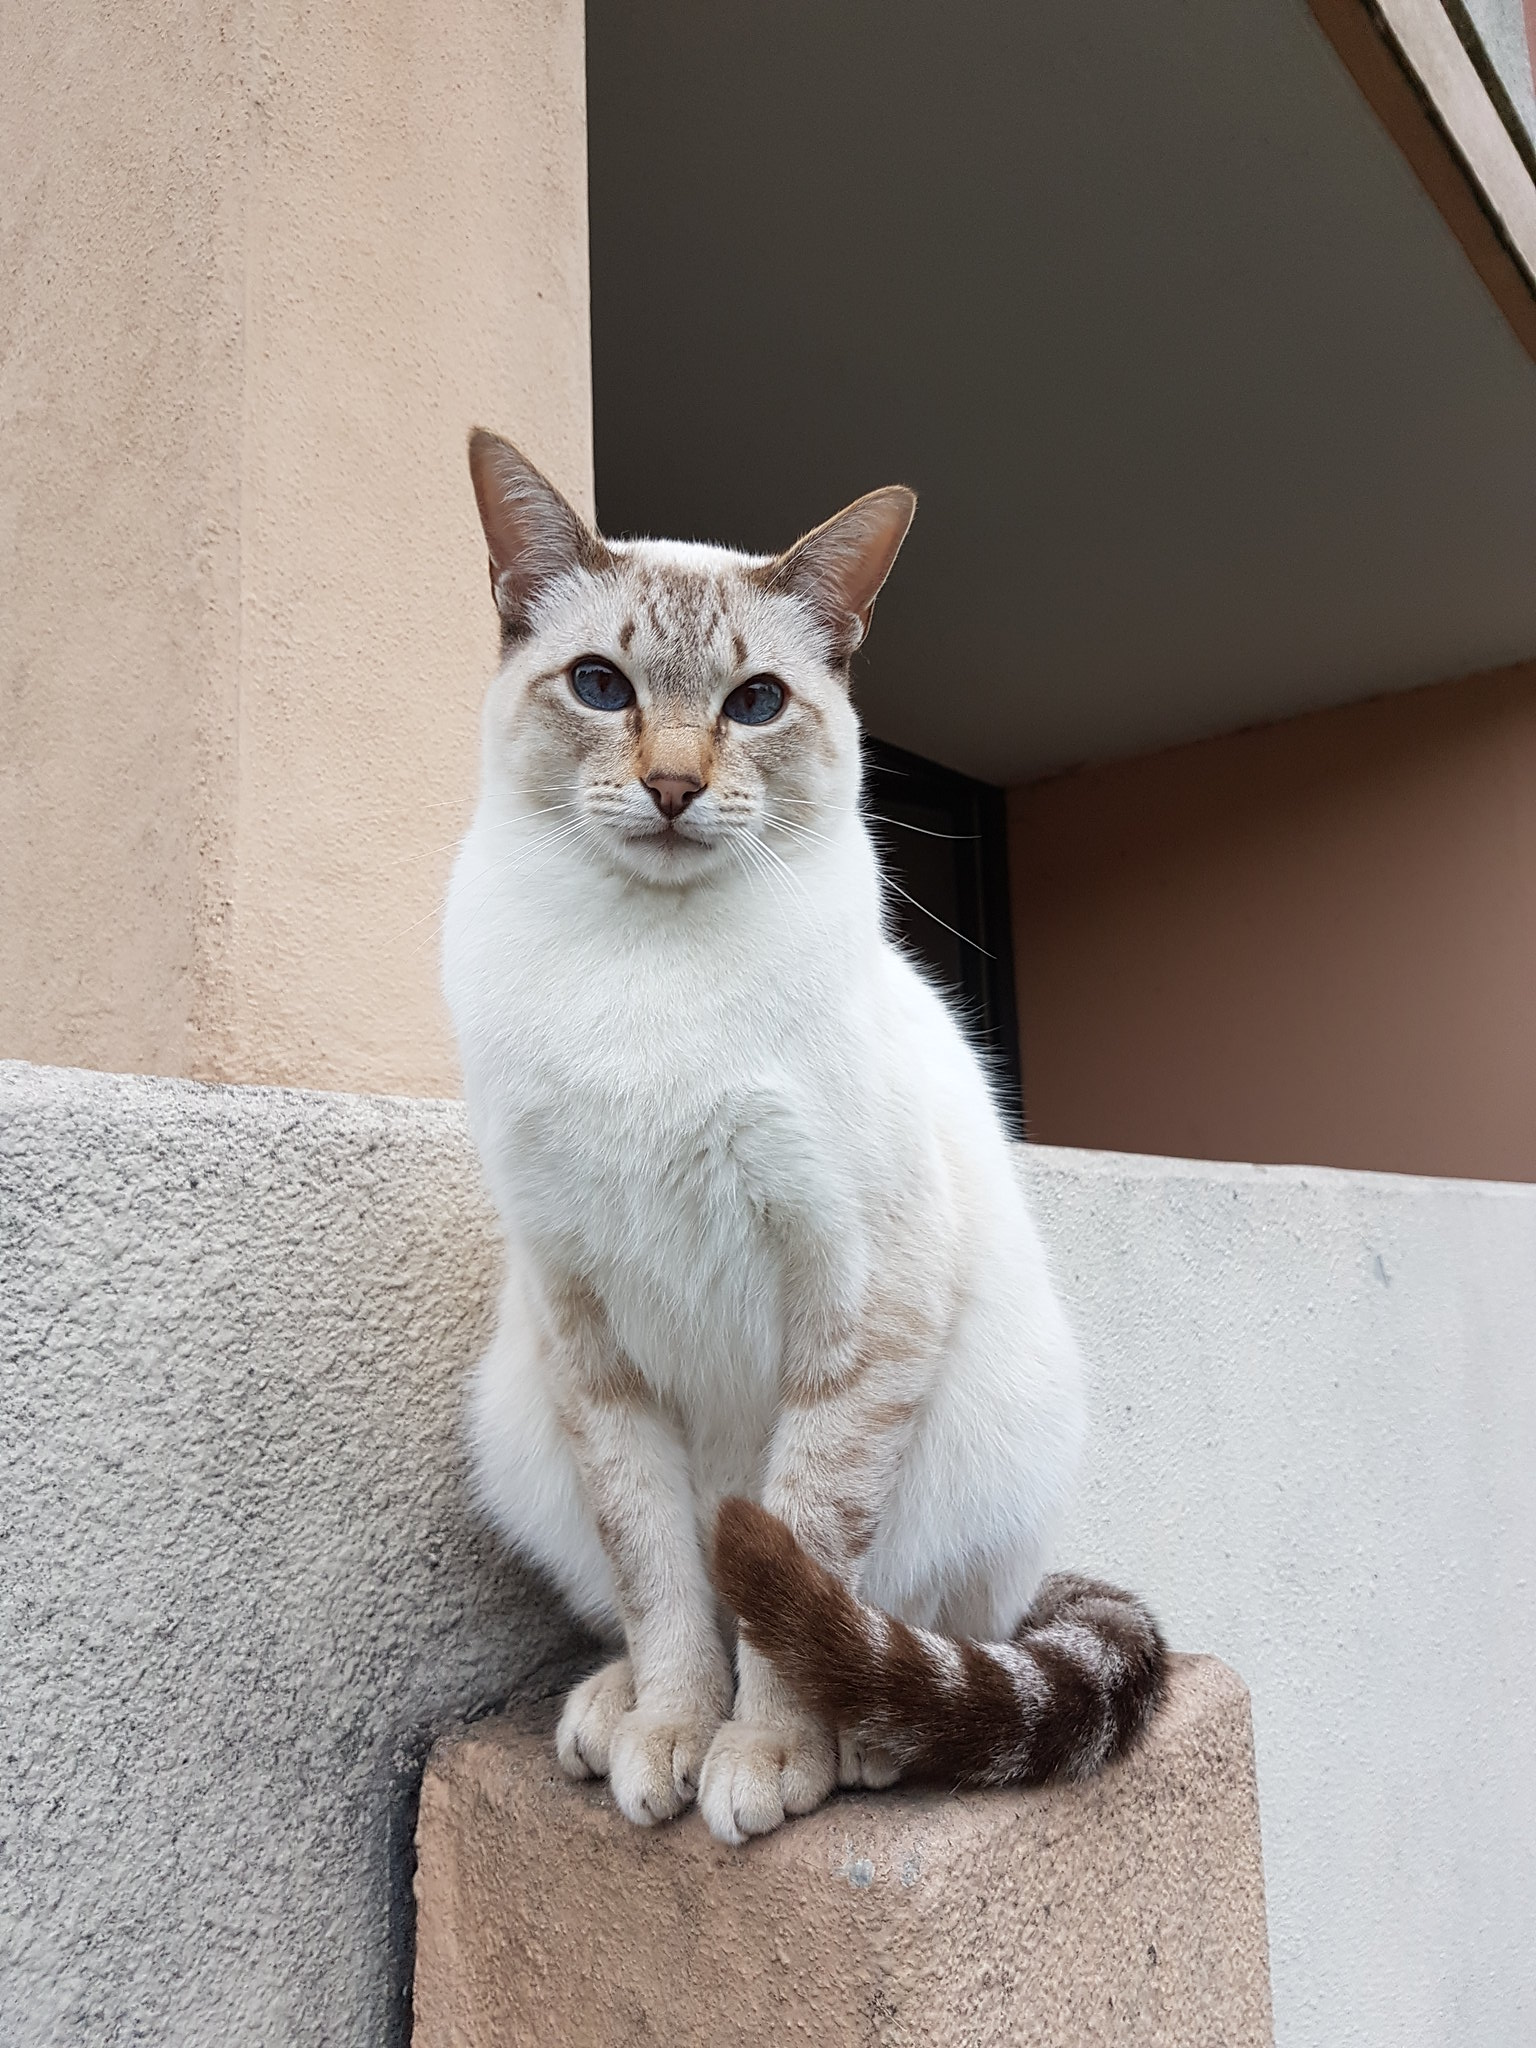cat: (405, 427, 1179, 1864)
